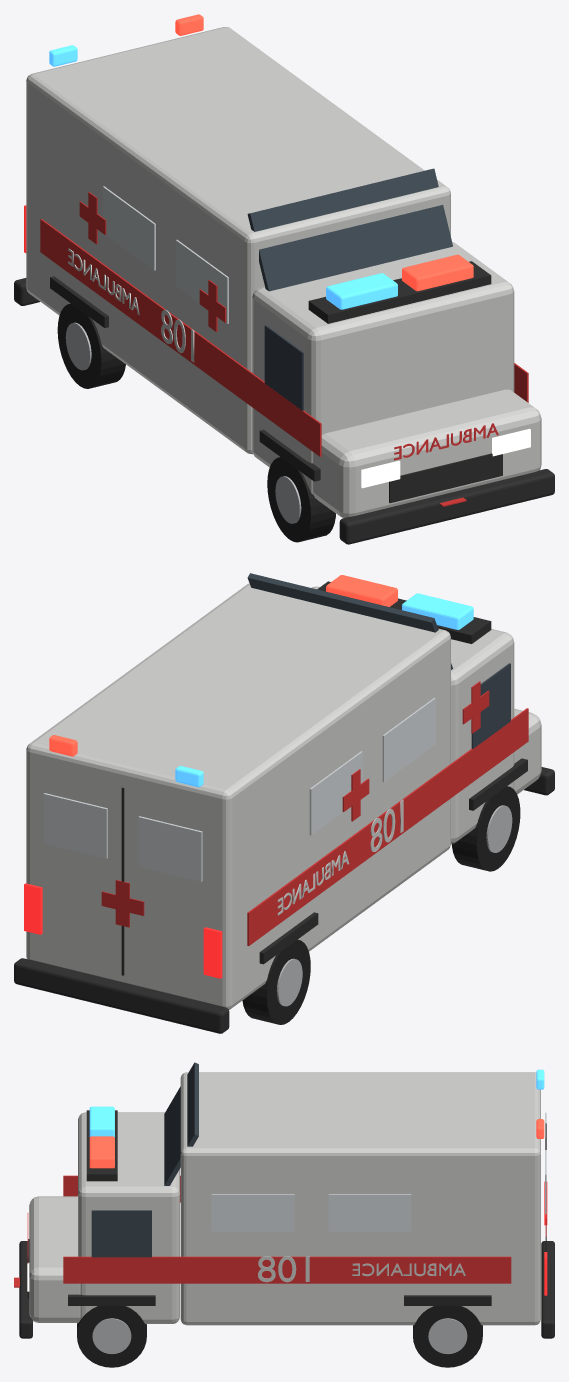
Rendered from ambulance.glb.
3 renders of one model, top to bottom at view 1: azimuth 30°, elevation 25°; view 2: azimuth 150°, elevation 25°; view 3: azimuth 270°, elevation 25°, orthographic. The views are drawn at different scales.
Visible parts, largest first — view 1: ambulance; view 2: ambulance; view 3: ambulance.
Part boxes in pixels (x1,y1,x2,y2): ambulance: (14, 14, 554, 544); ambulance: (14, 573, 554, 1033); ambulance: (14, 1062, 554, 1367).
Bounding box in the file's own units: 2.27 × 2.59 × 5.56.
